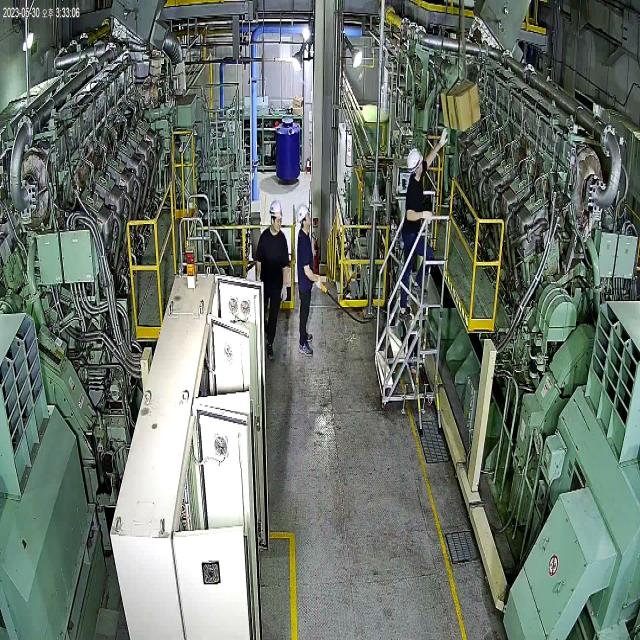Water Tank: (273, 110, 304, 188)
worker: (395, 121, 449, 327), (248, 194, 289, 366), (290, 196, 324, 362)
